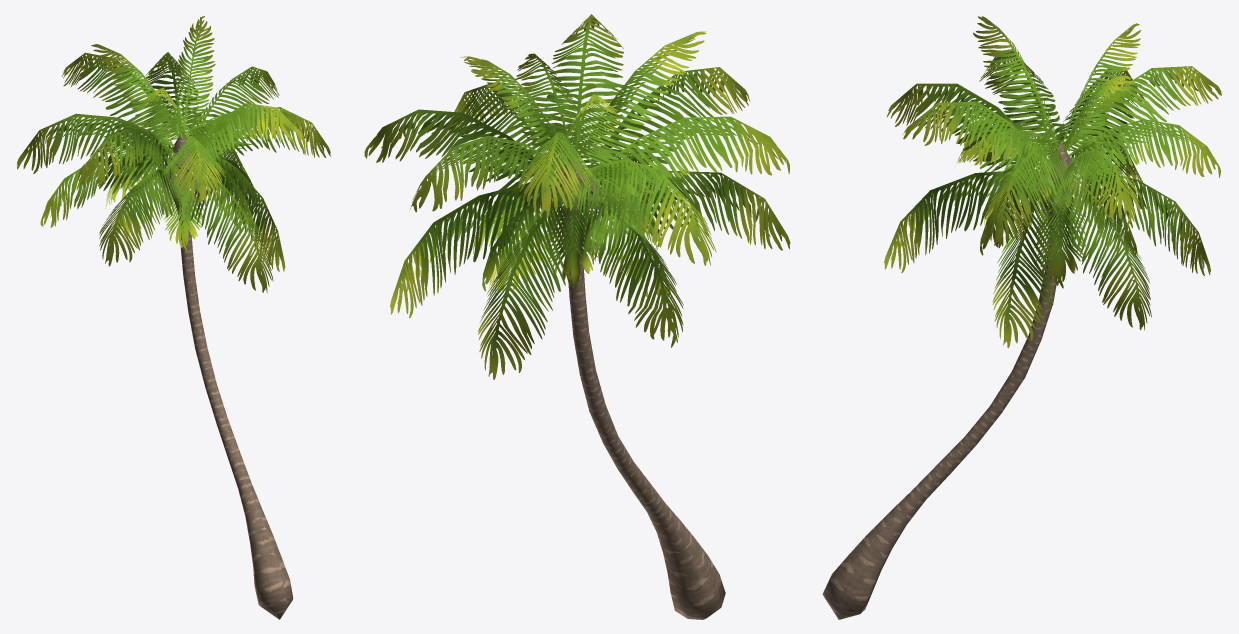
File: Coconut2.fbx
The picture shows the model from 3 angles, left to right: view 1: azimuth 30°, elevation 25°; view 2: azimuth 150°, elevation 25°; view 3: azimuth 270°, elevation 25°; orthographic projection. The views are drawn at different scales.
Visible parts, largest first — view 1: Coconut5_LOD0; view 2: Coconut5_LOD0; view 3: Coconut5_LOD0.
Part boxes in pixels (x1,y1,x2,y2): Coconut5_LOD0: (16,16,330,619); Coconut5_LOD0: (364,14,790,619); Coconut5_LOD0: (822,16,1221,619).
Bounding box in the file's own units: 714 × 1304 × 832.
